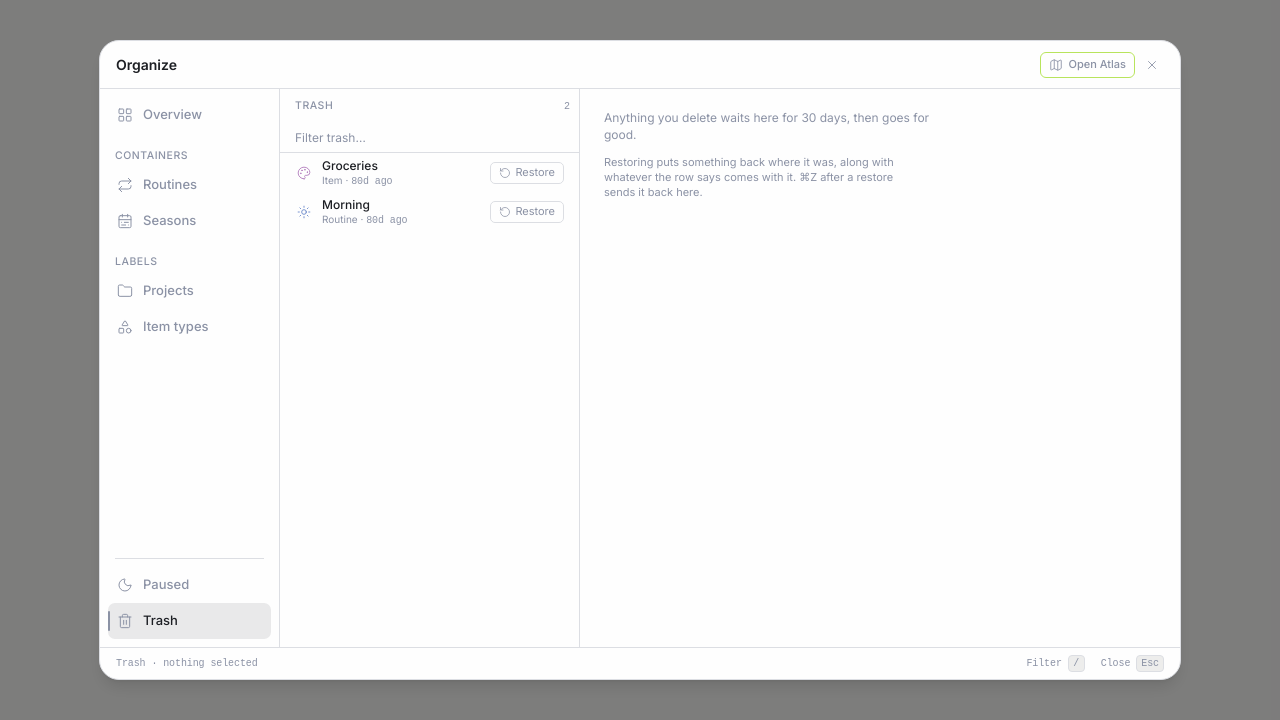
the Trash section › filters on the name AND the kind
This screenshot has width=1280, height=720.
Type "routine" into the field with test id "trash-filter" at (430, 138), box [291,129,568,146]
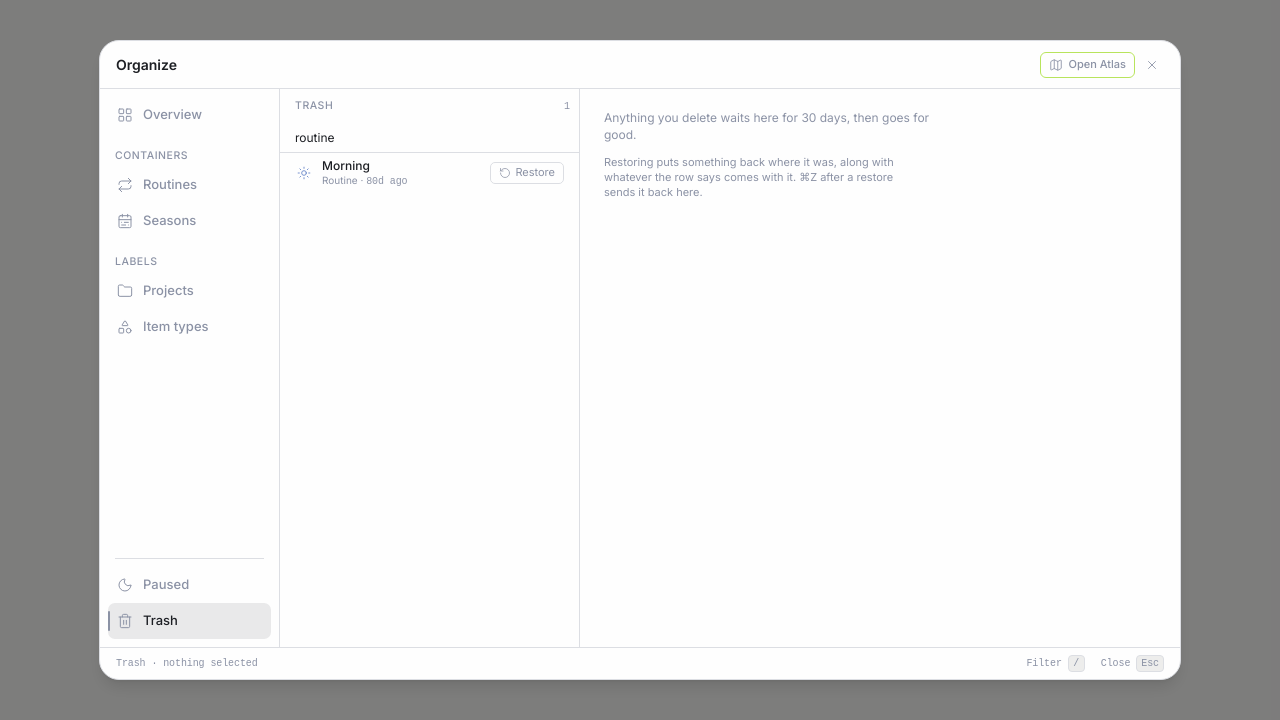
Expected: the element with test id "trash-row" shows "Morning", [295,157,481,188]
Now the number of elements with test id "trash-row" is 1, box [288,153,571,192]
